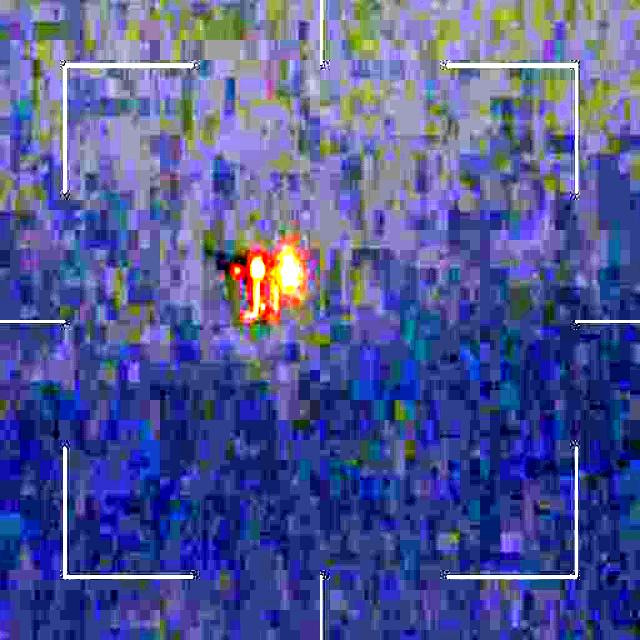bird: (225, 251, 312, 342)
